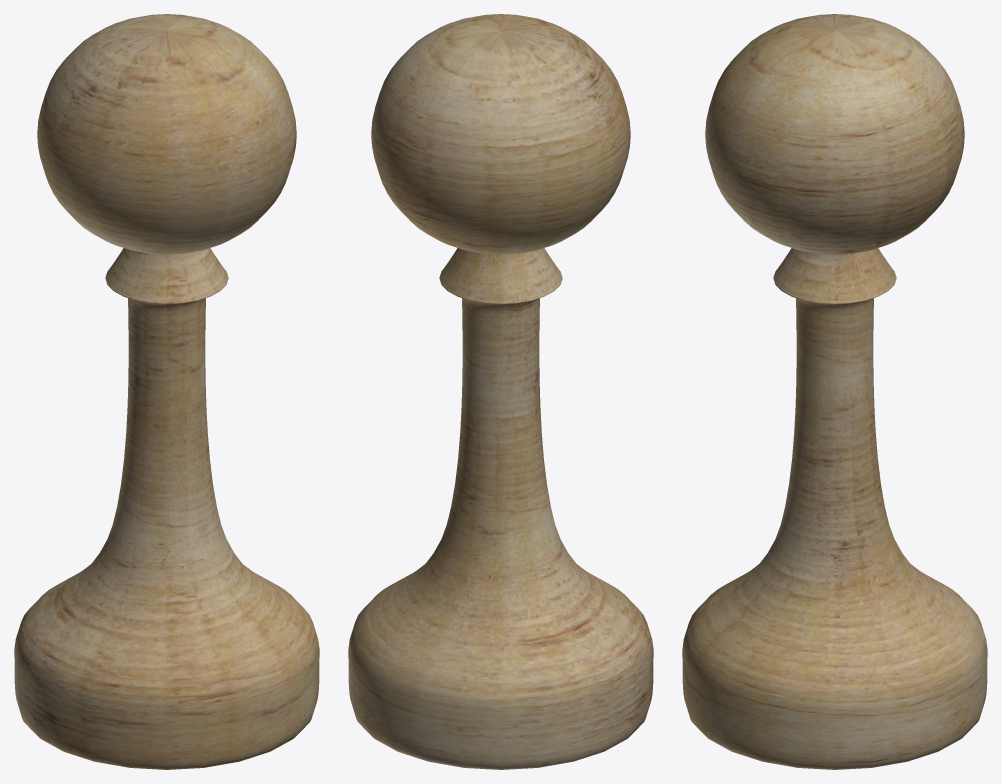
File: pawn.glb
The picture shows the model from 3 angles, left to right: view 1: azimuth 30°, elevation 25°; view 2: azimuth 150°, elevation 25°; view 3: azimuth 270°, elevation 25°; orthographic projection.
Parts seen in each view (by area): view 1: path3449; view 2: path3449; view 3: path3449.
Part boxes in pixels (x1,y1,x2,y2): path3449: (14,14,319,769); path3449: (348,14,653,769); path3449: (682,14,987,769).
Bounding box in the file's own units: 0.9026 × 2.22 × 0.9026.
1 material, 1 textured.
